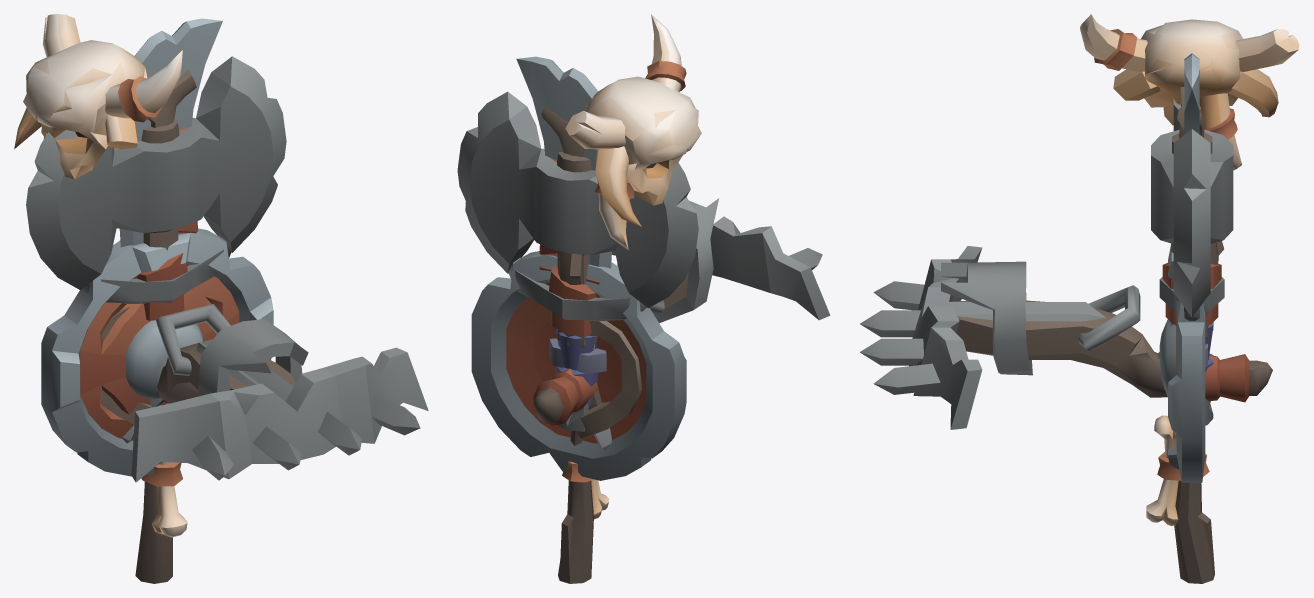
The model's file is boss-gear.glb.
3 views of the same model, side by side, from view 1: azimuth 30°, elevation 25°; view 2: azimuth 150°, elevation 25°; view 3: azimuth 270°, elevation 25° (orthographic). The views are drawn at different scales.
Visible parts, largest first — view 1: Skeleton_Axe, Skeleton_Crossbow, Skeleton_Shield_Small_A, Skeleton_Staff, Skeleton_Blade; view 2: Skeleton_Axe, Skeleton_Shield_Small_A, Skeleton_Staff, Skeleton_Crossbow, Skeleton_Blade, weapon-sword; view 3: Skeleton_Crossbow, Skeleton_Staff, Skeleton_Axe, Skeleton_Shield_Small_A, Skeleton_Blade.
Boxes of the visible parts, x1,y1,x2,y2 form: Skeleton_Axe: (26,56,286,407); Skeleton_Crossbow: (131,304,428,482); Skeleton_Shield_Small_A: (41,228,273,476); Skeleton_Staff: (14,14,196,583); Skeleton_Blade: (82,18,231,443); Skeleton_Axe: (457,91,698,431); Skeleton_Shield_Small_A: (471,251,686,480); Skeleton_Staff: (541,14,701,583); Skeleton_Crossbow: (533,198,830,425); Skeleton_Blade: (508,56,646,450); weapon-sword: (549,338,606,373); Skeleton_Crossbow: (860,246,1272,429); Skeleton_Staff: (1080,14,1299,583); Skeleton_Axe: (1151,99,1233,425); Skeleton_Shield_Small_A: (1159,245,1205,482); Skeleton_Blade: (1159,53,1224,320).
Bounding box in the file's own units: 1.11 × 2.1 × 1.51.
2 materials, 2 textured.
